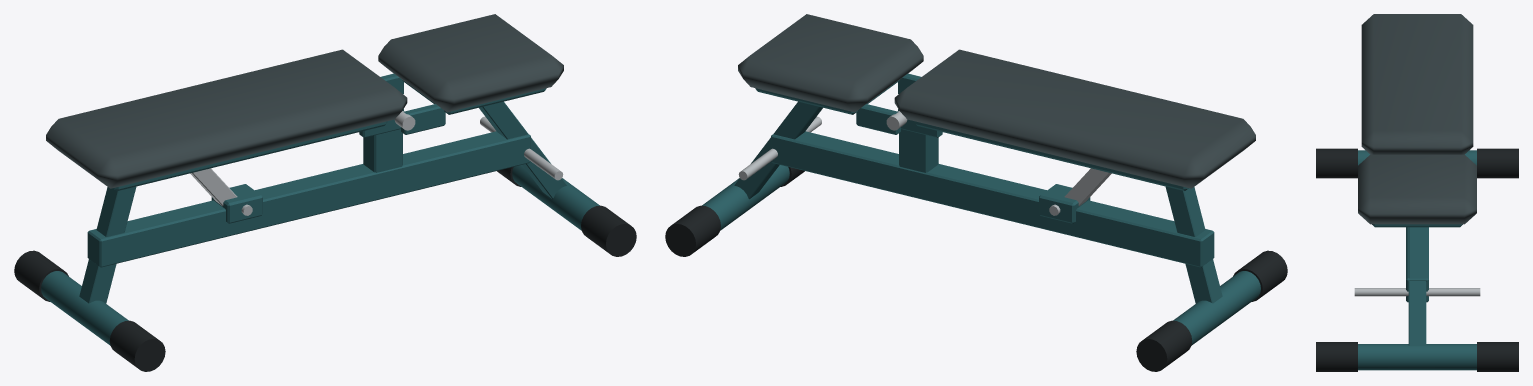
3 renders of one model, left to right at view 1: azimuth 30°, elevation 25°; view 2: azimuth 150°, elevation 25°; view 3: azimuth 270°, elevation 25°, orthographic. The views are drawn at different scales.
Parts seen in each view (by area): view 1: Long rounded back upholstery, Longitudinal lower box frame, Separate rounded seat upholstery, rear transverse metal foot, Rear sloping square support, front rubber end cap -1, rear rubber end cap -1, Front sloping square support, front transverse metal foot, Central hinge frame support, Back pad underside support plate, rear rubber end cap 1 (+4 smaller); view 2: Long rounded back upholstery, Longitudinal lower box frame, Separate rounded seat upholstery, rear transverse metal foot, Rear sloping square support, front rubber end cap 1, rear rubber end cap 1, Front sloping square support, front transverse metal foot, Central hinge frame support, Back pad underside support plate, rear rubber end cap -1 (+4 smaller); view 3: Long rounded back upholstery, Separate rounded seat upholstery, front transverse metal foot, Front sloping square support, rear rubber end cap -1, rear rubber end cap 1, front rubber end cap -1, front rubber end cap 1, Front support transverse pin, Longitudinal lower box frame, Seat pad underside support plate, rear transverse metal foot.
Part boxes in pixels (x1,y1,x2,y2): Long rounded back upholstery: (46,49,407,188); Longitudinal lower box frame: (87,131,530,267); Separate rounded seat upholstery: (378,14,563,112); rear transverse metal foot: (41,271,128,345); Rear sloping square support: (79,186,136,303); front rubber end cap -1: (581,205,636,256); rear rubber end cap -1: (109,320,165,371); Front sloping square support: (479,101,567,199); front transverse metal foot: (512,165,599,230); Central hinge frame support: (363,129,402,172); Back pad underside support plate: (113,121,387,190); rear rubber end cap 1: (14,250,68,301); Long rounded back upholstery: (894,49,1255,188); Longitudinal lower box frame: (771,131,1214,267); Separate rounded seat upholstery: (738,14,923,112); rear transverse metal foot: (1173,271,1260,345); Rear sloping square support: (1165,186,1222,303); front rubber end cap 1: (665,205,720,256); rear rubber end cap 1: (1136,320,1192,371); Front sloping square support: (734,101,822,199); front transverse metal foot: (702,165,789,230); Central hinge frame support: (899,129,938,172); Back pad underside support plate: (914,121,1188,190); rear rubber end cap -1: (1233,250,1287,301); Long rounded back upholstery: (1361,14,1473,154); Separate rounded seat upholstery: (1358,154,1476,224); front transverse metal foot: (1358,344,1476,370); Front sloping square support: (1408,227,1426,345); rear rubber end cap -1: (1316,148,1357,178); rear rubber end cap 1: (1477,148,1518,178); front rubber end cap -1: (1316,342,1357,371); front rubber end cap 1: (1477,342,1518,371); Front support transverse pin: (1354,288,1480,296); Longitudinal lower box frame: (1406,227,1428,302); Seat pad underside support plate: (1372,224,1462,227); rear transverse metal foot: (1358,150,1476,165).
Bounding box in the file's own units: 1.4 × 0.5075 × 0.58.
